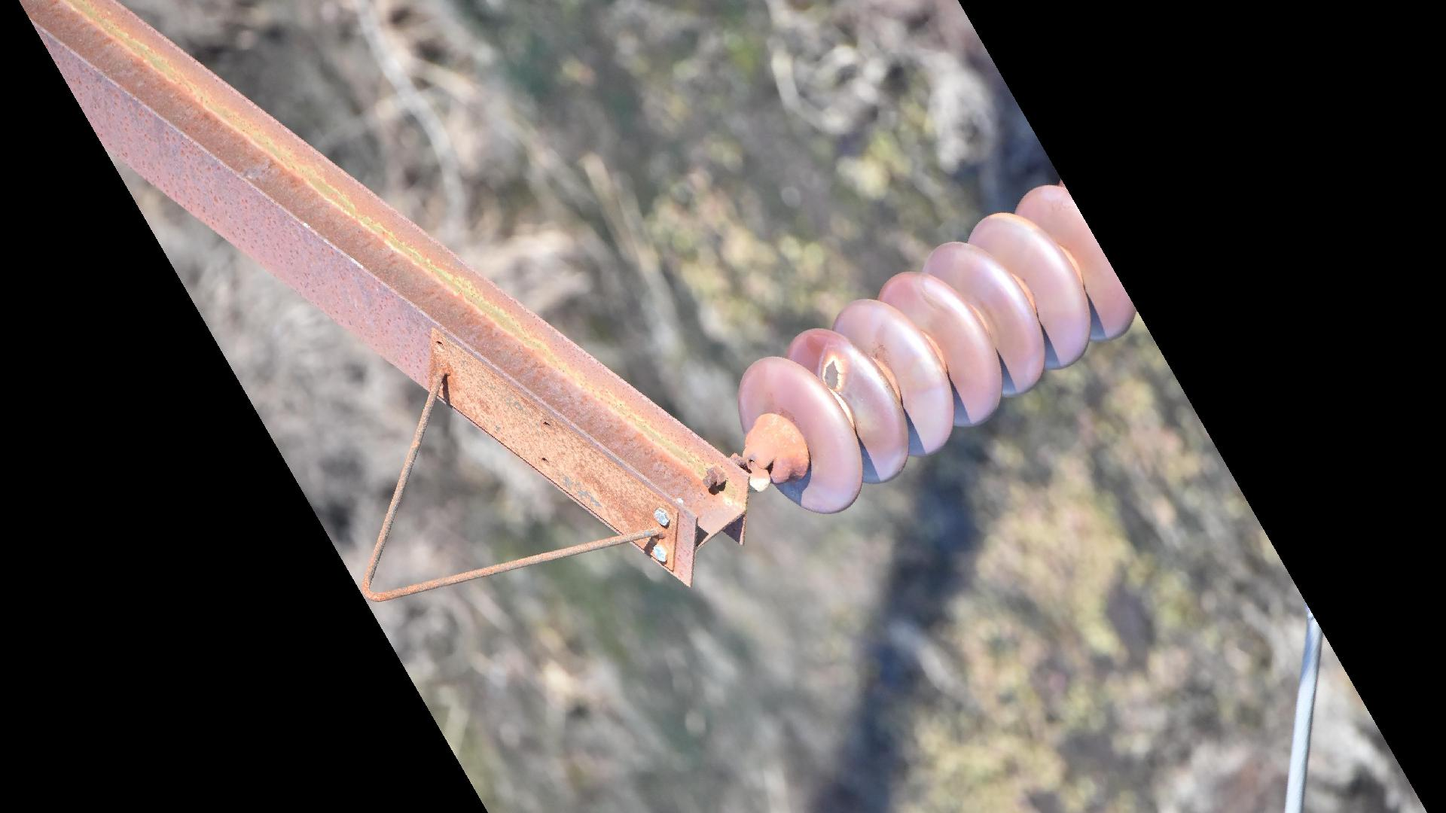insulator: (732, 179, 1140, 520)
insulator_flashover: (819, 352, 847, 393)
